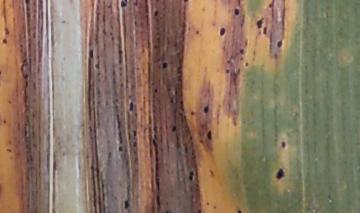tarspot: (274, 169, 286, 179), (255, 17, 264, 30), (127, 101, 135, 112), (206, 128, 212, 141), (203, 103, 210, 114), (219, 26, 225, 38), (123, 200, 130, 210), (152, 8, 159, 18), (171, 124, 178, 134), (188, 171, 195, 181), (88, 49, 95, 59), (280, 140, 286, 151), (160, 61, 168, 69), (5, 147, 14, 154), (276, 39, 283, 48), (1, 38, 9, 45), (117, 145, 124, 153), (120, 1, 128, 8), (4, 27, 10, 36), (267, 1, 273, 9), (234, 7, 240, 15), (239, 47, 245, 55), (244, 60, 250, 68), (2, 117, 7, 126), (152, 87, 158, 94), (263, 27, 268, 35), (195, 28, 200, 36), (224, 68, 230, 74), (190, 109, 195, 116), (236, 208, 242, 213), (197, 208, 203, 213)
